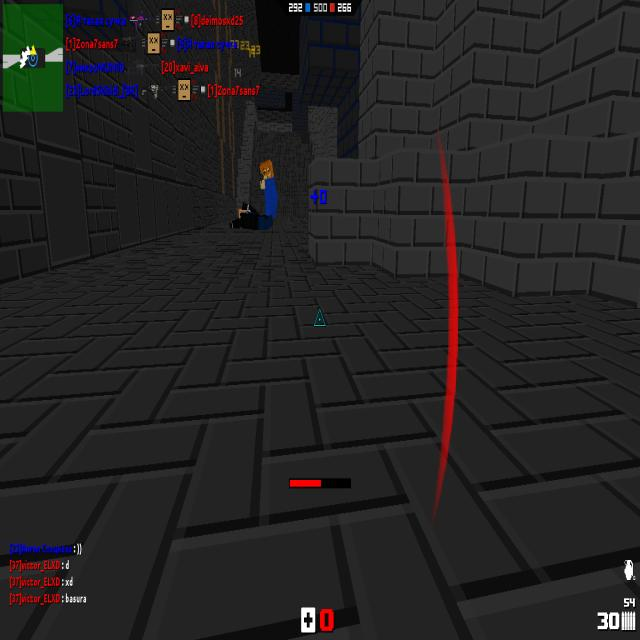enemy: (259, 158, 279, 223)
